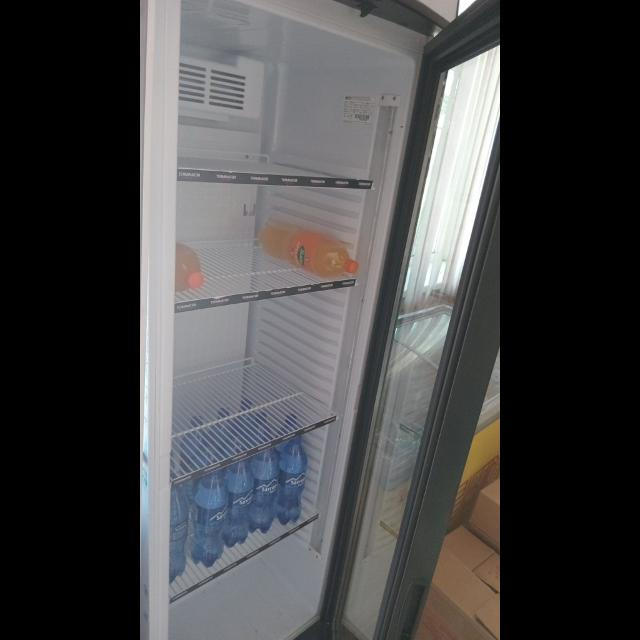Cooling-Display: (150, 1, 460, 640)
